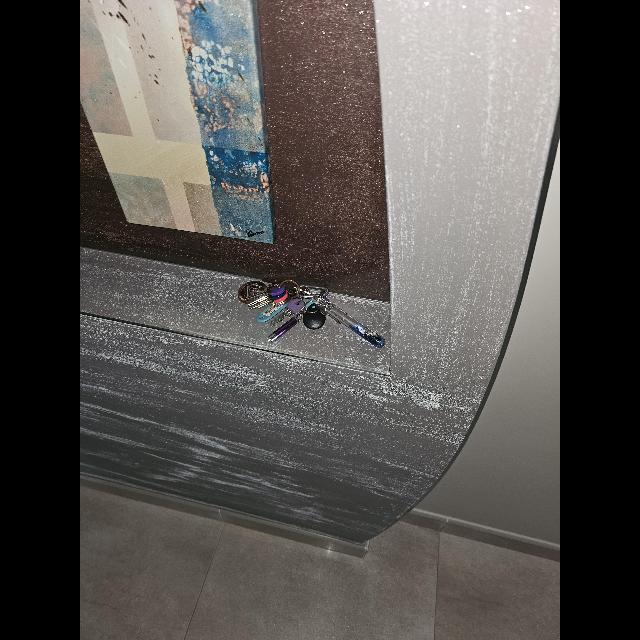Keys: (245, 277, 385, 349)
